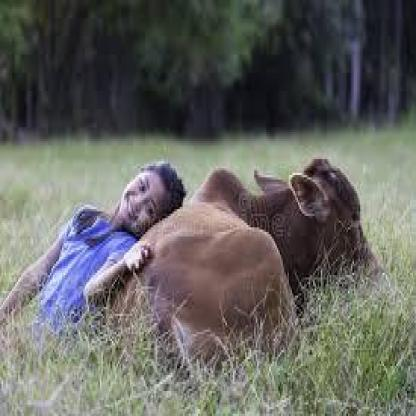cow: (108, 160, 385, 383)
